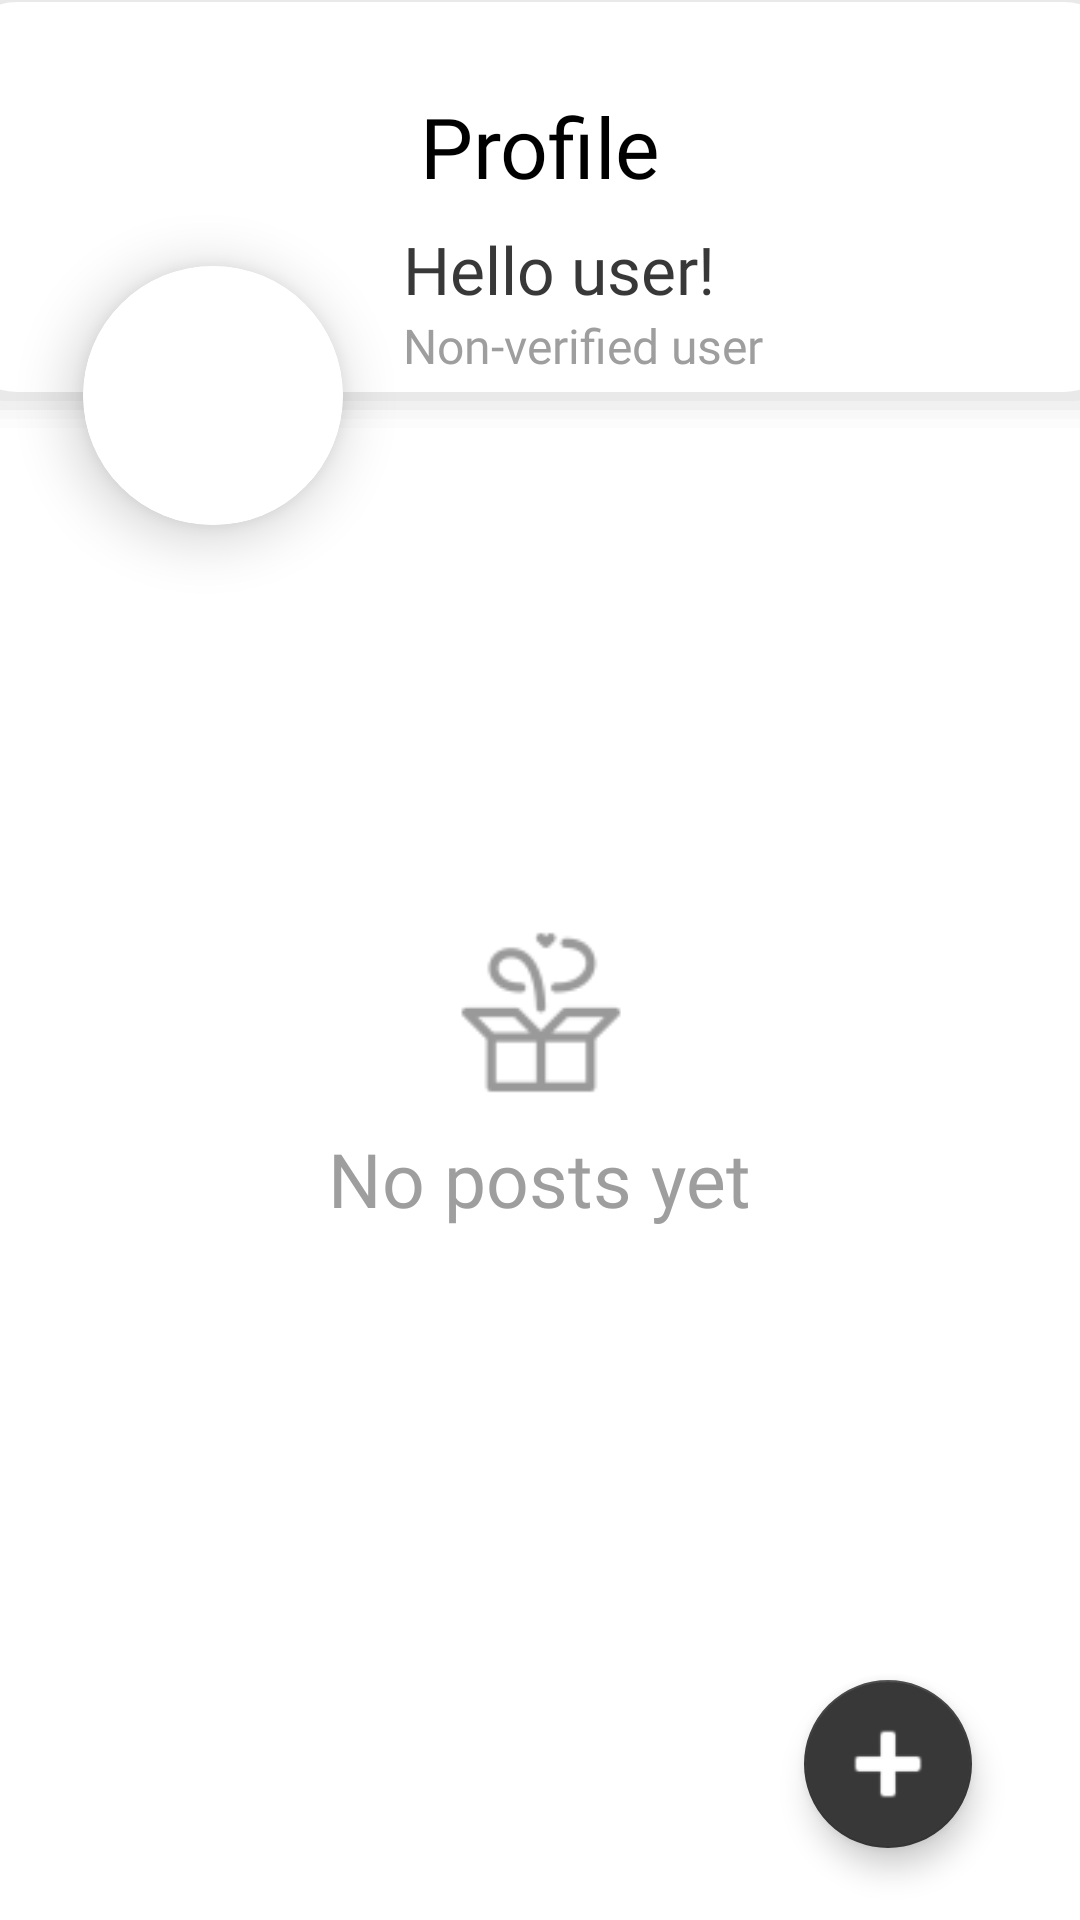

Icon bounding boxes for this 1080*1920 phone screenshot, format (x1, y1, x2, y2):
add: (804, 1680, 972, 1848)
empty: (461, 933, 621, 1092)
